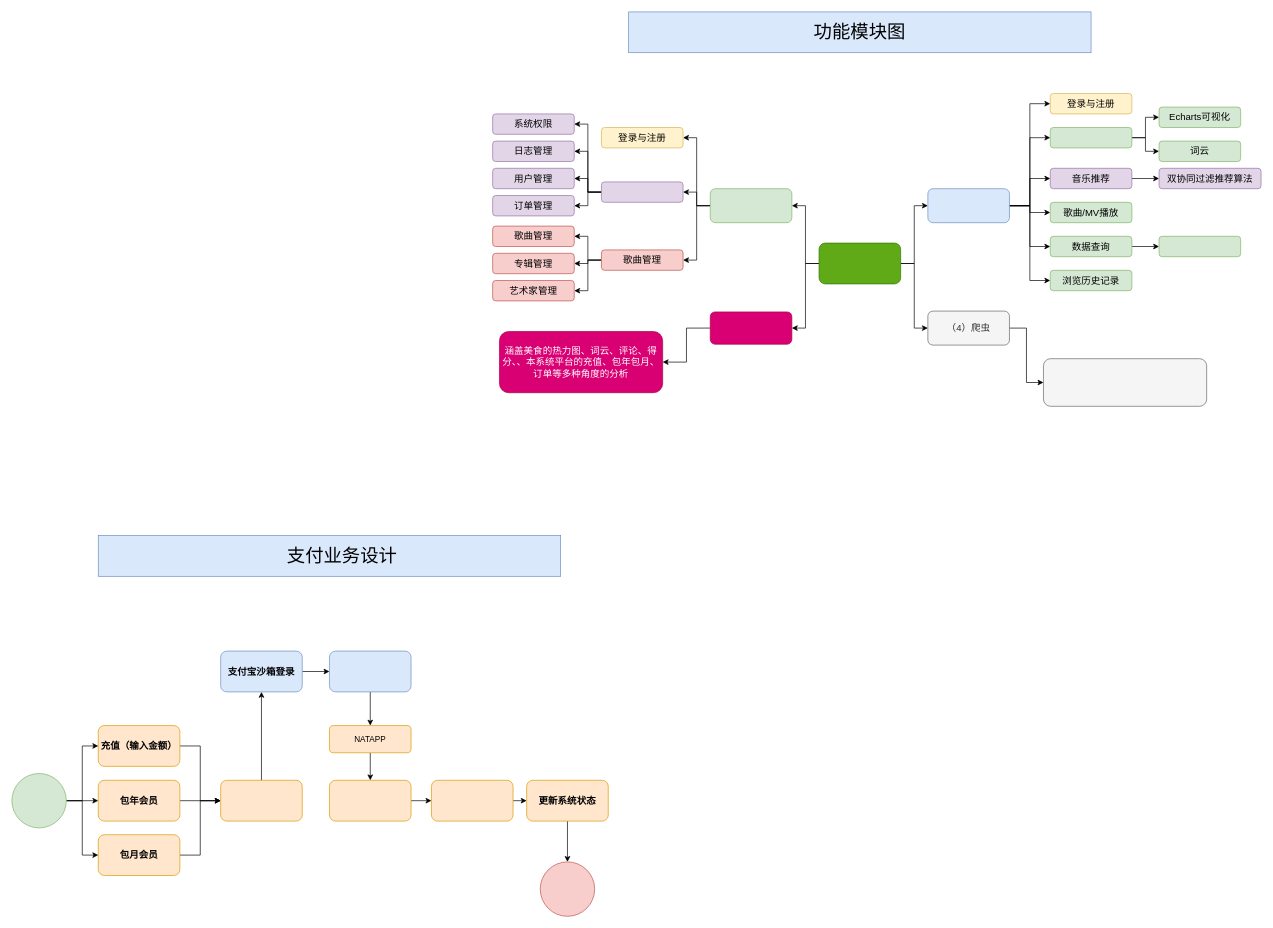
Some shapes in this 1273 by 928 pixel diagram are drawn without their labels. Here are the shapes that lost their labels. From the top down, the centre of each, then its label:
At point (1091, 137): "数据可视化".
At point (642, 191): "系统管理".
At point (751, 205): "（2）管理端".
At point (968, 205): "（1）网站端".
At point (859, 263): "Spark美食 大数据平台".
At point (1199, 246): "分页/模糊查询".
At point (751, 327): "（3）大屏端".
At point (1125, 382): "爬取美团店铺数据 （*样本为武汉，可以拓展其他城市）".
At point (370, 671): "输入支付密码 完成支付".
At point (38, 800): "开始".
At point (261, 800): "点击支付， 产生订单".
At point (370, 800): "回调接口".
At point (472, 800): "更新订单状态".
At point (567, 888): "结束".
